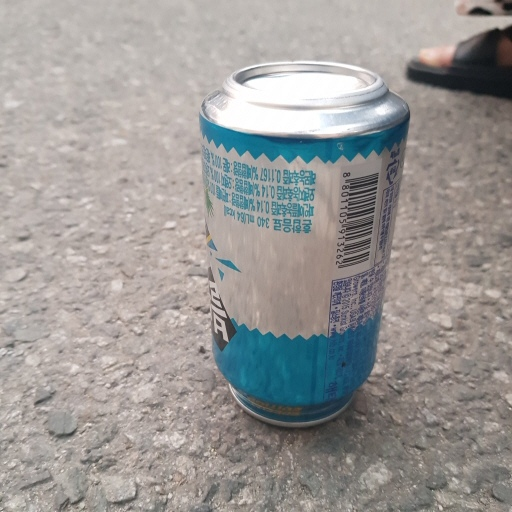Metal_0: (197, 59, 412, 428)
